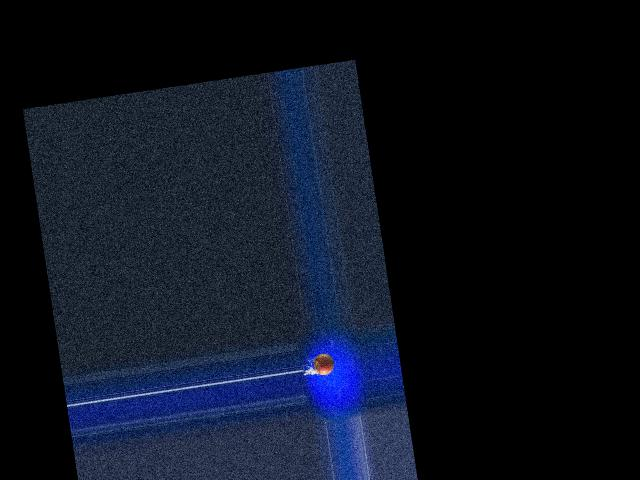tomato: (312, 351, 335, 376)
